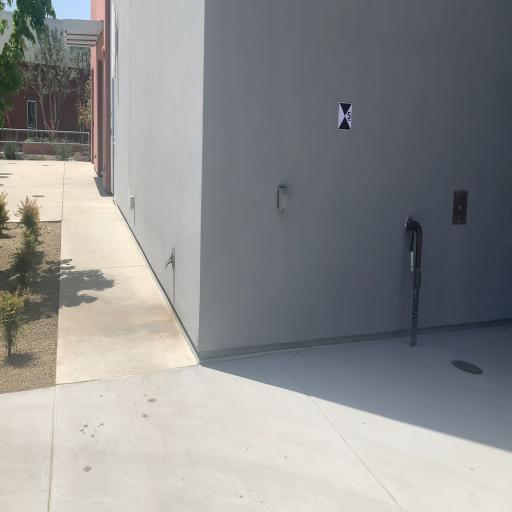target5: (339, 100, 352, 131)
